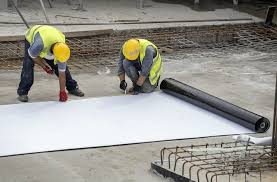Casco de seguridad: (122, 39, 140, 60), (53, 45, 72, 63)
